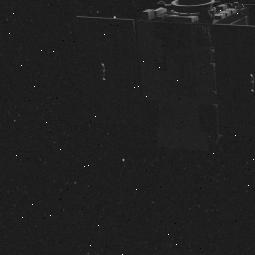proba_2: (77, 0, 255, 142)
